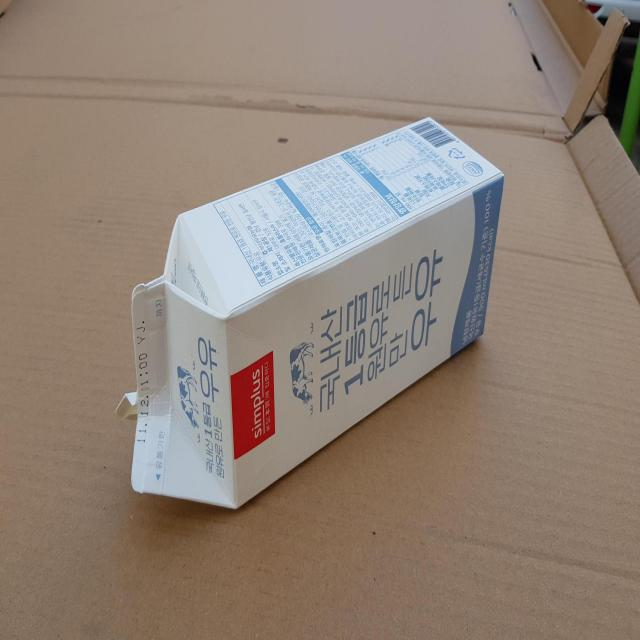paperpack: (117, 116, 504, 508)
